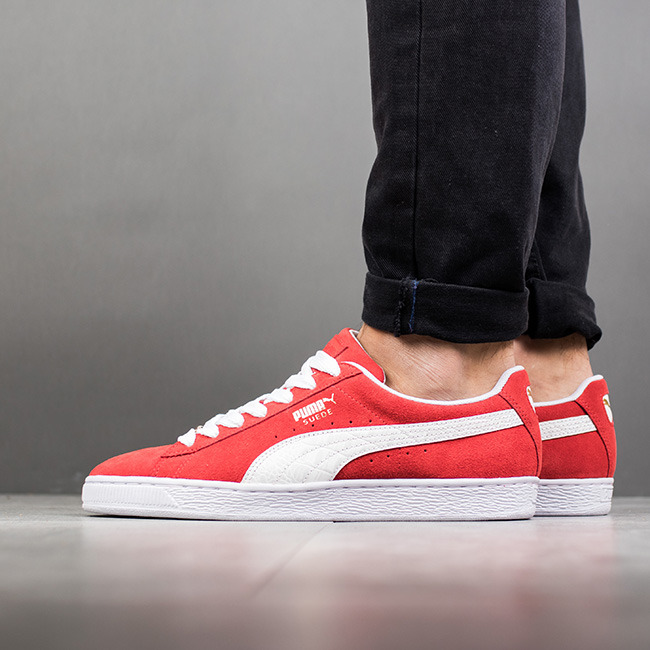Puma Suede Low Red: (61, 308, 553, 538)
